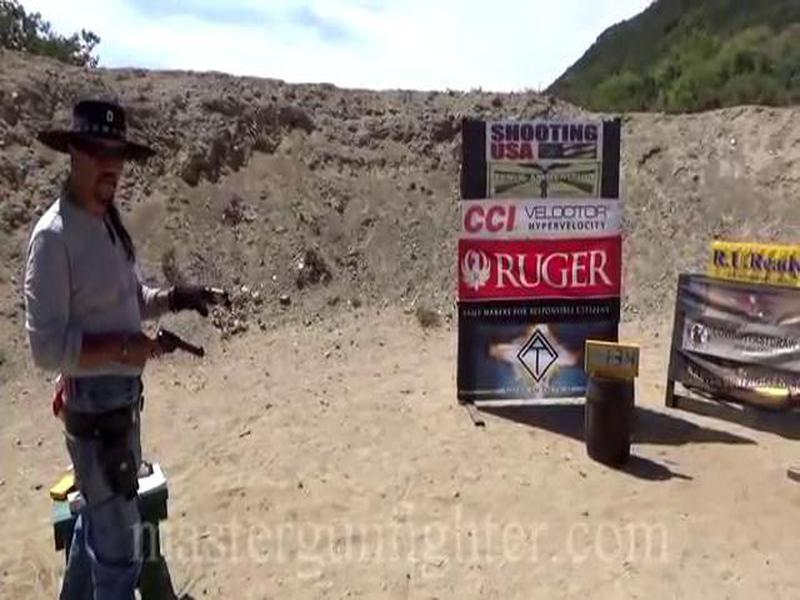Revolver: (130, 324, 226, 387)
